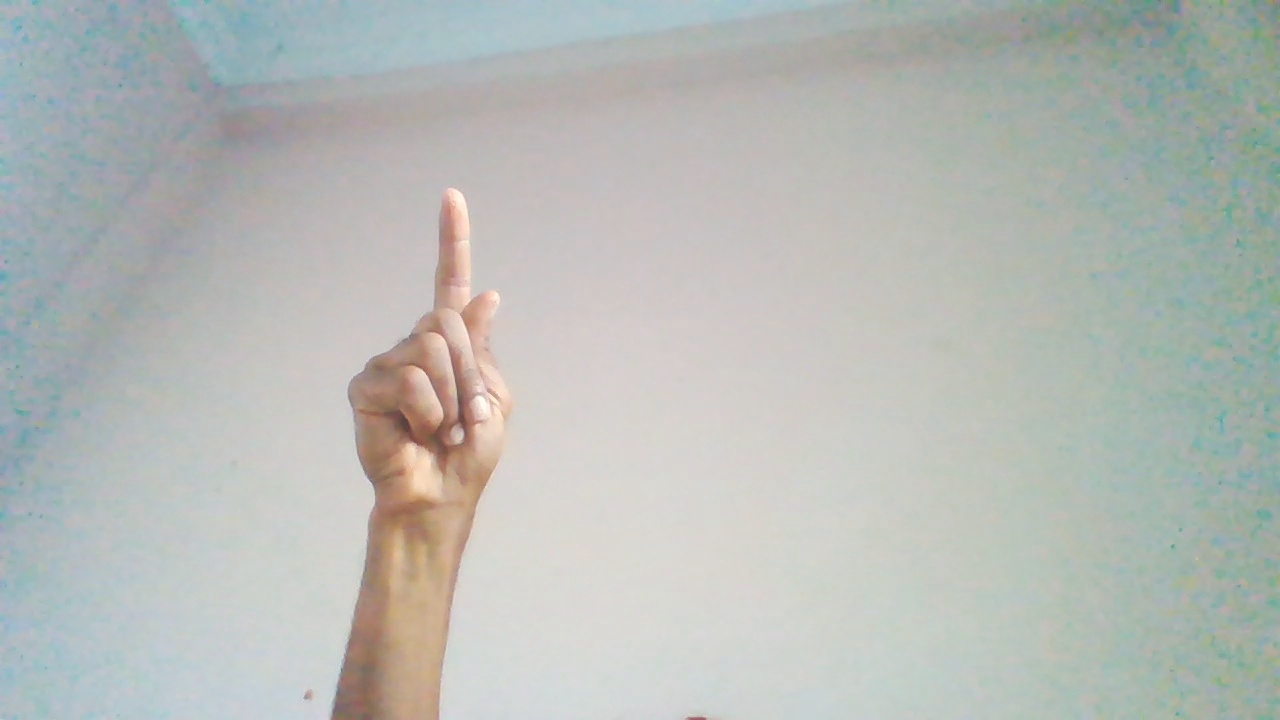ne: (352, 181, 534, 583)
